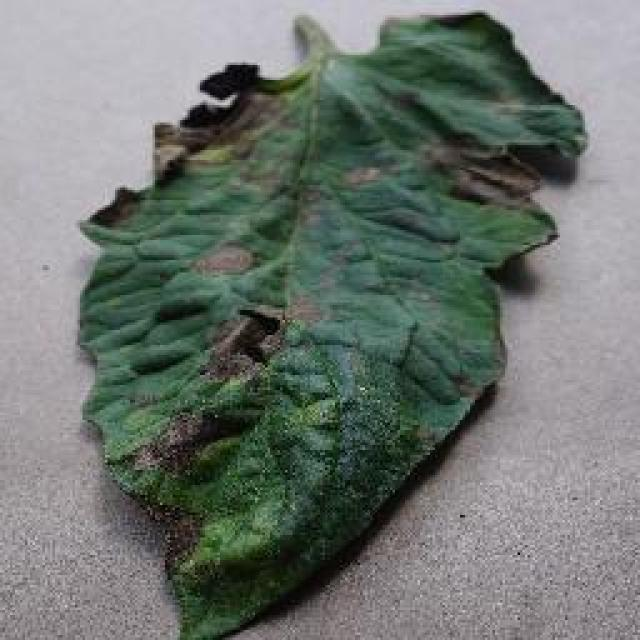Tomato___Early_blight: (72, 4, 590, 638)
